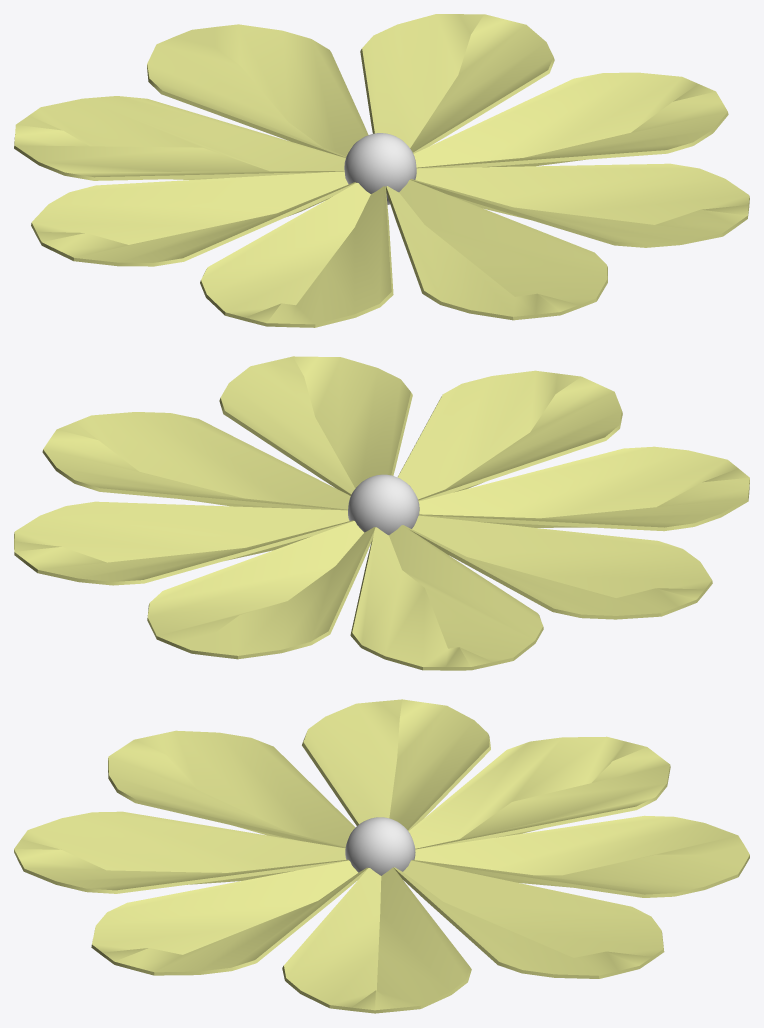
The model's file is Flower.fbx.
3 views of the same model, one above another, from view 1: azimuth 30°, elevation 25°; view 2: azimuth 150°, elevation 25°; view 3: azimuth 270°, elevation 25° (orthographic). The views are drawn at different scales.
Parts seen in each view (by area): view 1: Flower1; view 2: Flower1; view 3: Flower1.
Boxes of the visible parts, <box> form: Flower1: <box>14,14,749,327</box>; Flower1: <box>14,356,749,670</box>; Flower1: <box>14,699,749,1013</box>.
Bounding box in the file's own units: 13.65 × 1.3 × 13.66.
